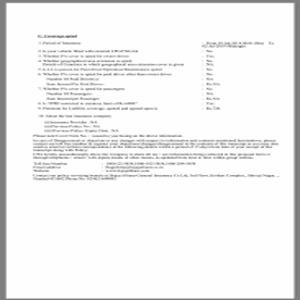text: (33, 32, 276, 138), (31, 137, 281, 182)
